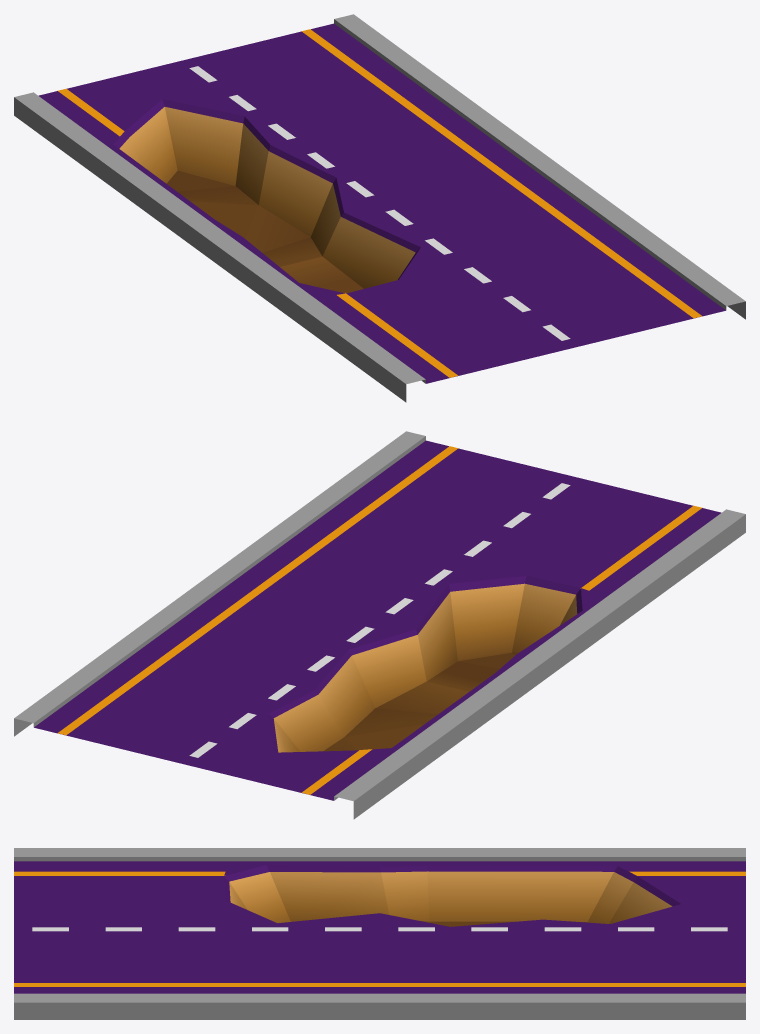
Rendered from Road_C_3.glb.
The picture shows the model from 3 angles, top to bottom: view 1: azimuth 30°, elevation 25°; view 2: azimuth 150°, elevation 25°; view 3: azimuth 270°, elevation 25°; orthographic projection. The views are drawn at different scales.
Visible parts, largest first — view 1: Road_C_3; view 2: Road_C_3; view 3: Road_C_3.
Part boxes in pixels (x1,y1,x2,y2): Road_C_3: [14, 14, 745, 402]; Road_C_3: [14, 431, 745, 819]; Road_C_3: [14, 848, 745, 1019].
Bounding box in the file's own units: 8 × 1.47 × 16.
Materials: 1 (1 with a texture image).
